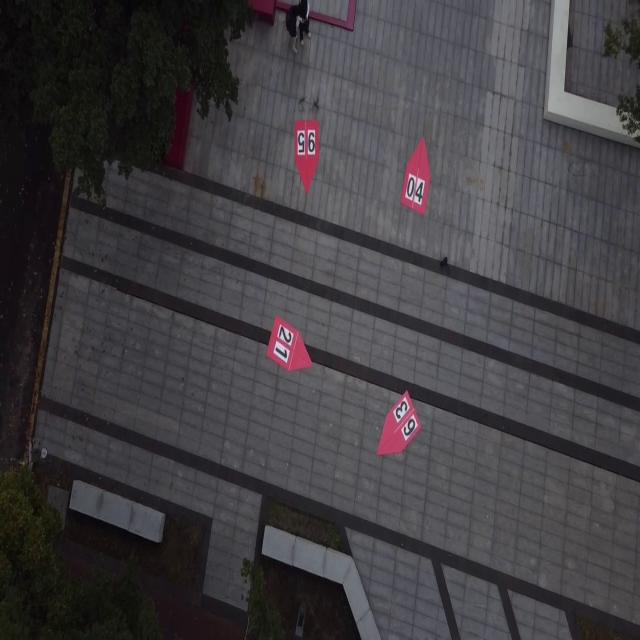-sign-: (377, 391, 422, 457), (266, 314, 312, 373), (401, 136, 432, 216), (293, 118, 319, 194)
